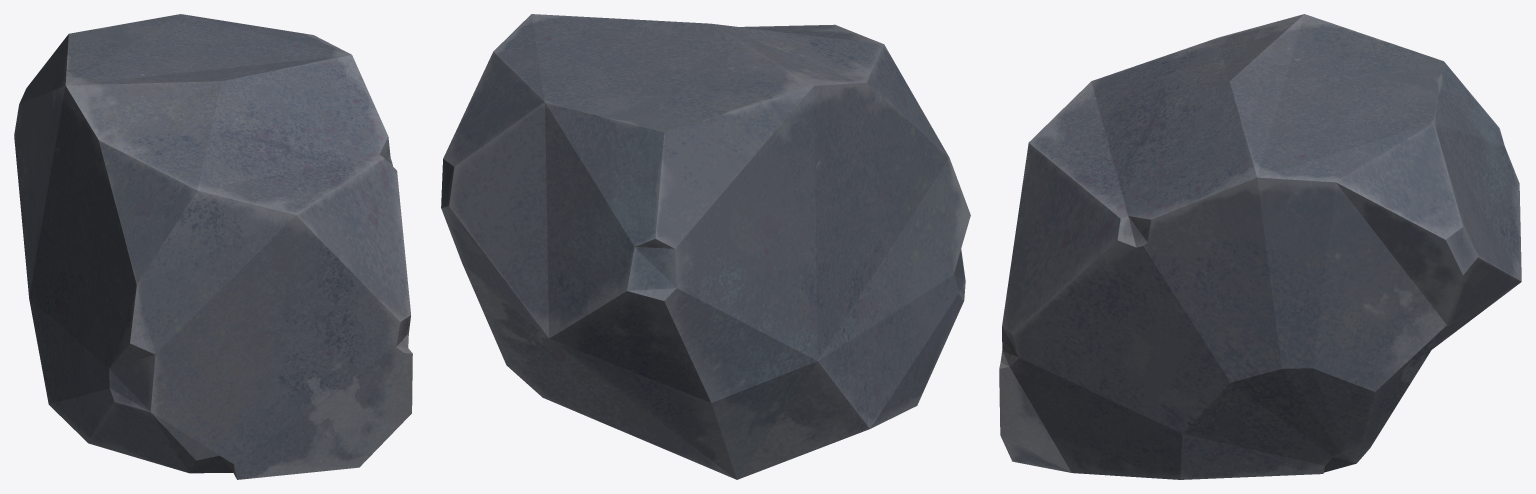
File: Rocas_zona2_2.fbx
3 renders of one model, left to right at view 1: azimuth 30°, elevation 25°; view 2: azimuth 150°, elevation 25°; view 3: azimuth 270°, elevation 25°, orthographic. The views are drawn at different scales.
Visible parts, largest first — view 1: stylized_rock_54; view 2: stylized_rock_54; view 3: stylized_rock_54.
Boxes of the visible parts, left/top/right/bottom form: stylized_rock_54: left=14, top=14, right=412, bottom=479; stylized_rock_54: left=441, top=14, right=970, bottom=479; stylized_rock_54: left=999, top=14, right=1521, bottom=479.
Bounding box in the file's own units: 128 × 126 × 165.
